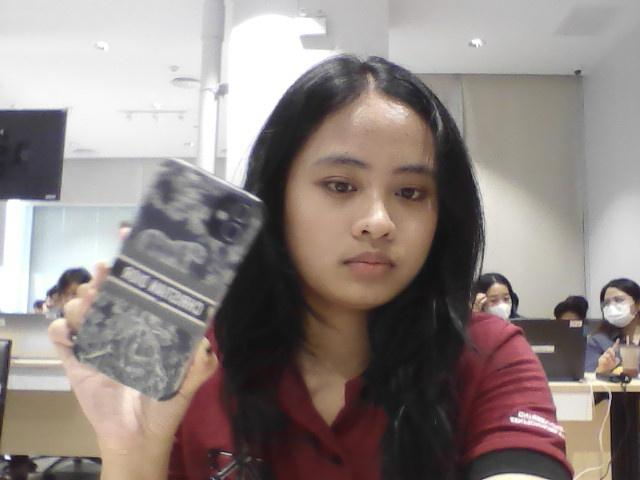iphone: (91, 138, 269, 396)
